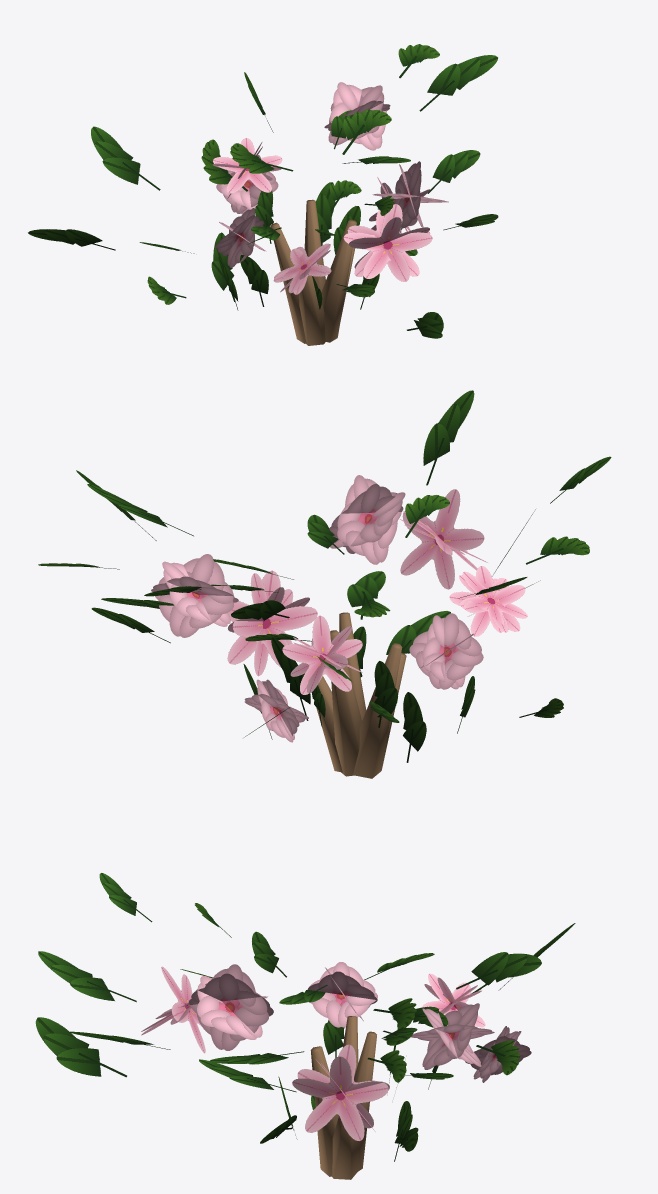
Rendered from peony_pink.glb.
3 views of the same model, one above another, from view 1: azimuth 30°, elevation 25°; view 2: azimuth 150°, elevation 25°; view 3: azimuth 270°, elevation 25° (orthographic). The views are drawn at different scales.
Parts seen in each view (by area): view 1: peony_pink; view 2: peony_pink; view 3: peony_pink.
Boxes of the visible parts, x1,y1,x2,y2 form: peony_pink: (28,44,498,345); peony_pink: (38,390,611,778); peony_pink: (35,873,575,1179).
Size of the model in its own units: 2.45 by 0.9637 by 2.19.
5 materials, 4 textured.
